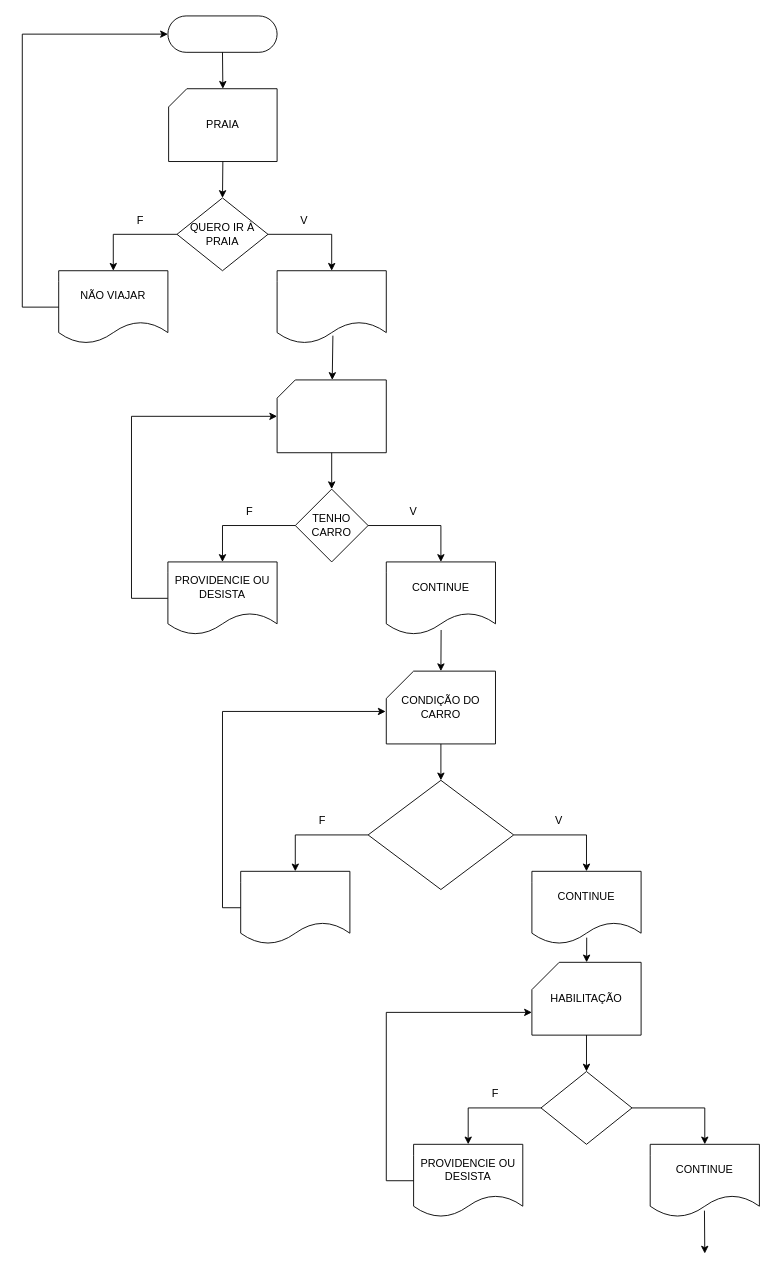
Image size: 775x1277. Some labels were removed from this diagram. The shapes that lost their labels are listed below. From the top down, each one's box as (x1, y1, x2, y2) in pixels, then its label:
(167, 15, 277, 52): INÍCIO
(276, 270, 386, 344): SE PREPARAR PARA VIAJAR
(276, 379, 386, 453): CARRO
(367, 779, 514, 890): O CARRO ESTÁ EM CONDIÇÕES DE VIAJAR
(240, 870, 350, 944): CONSERTE OU DESISTA
(540, 1071, 632, 1144): TENHO HABILITAÇÃO
